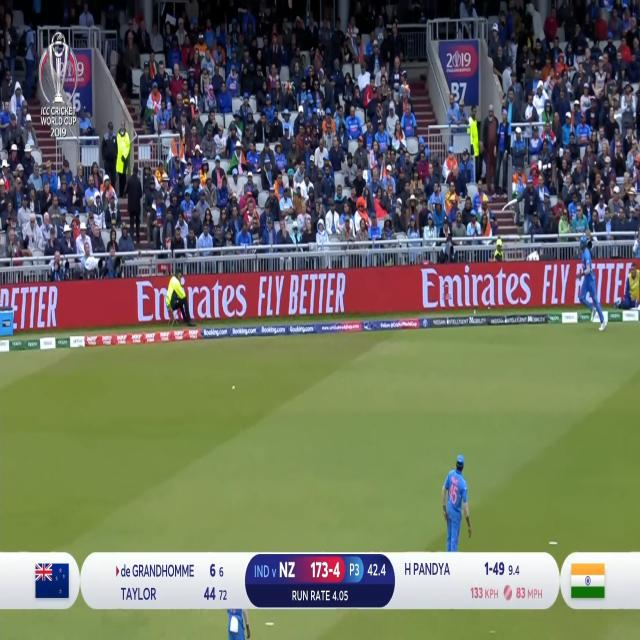ball: (229, 383, 239, 393)
